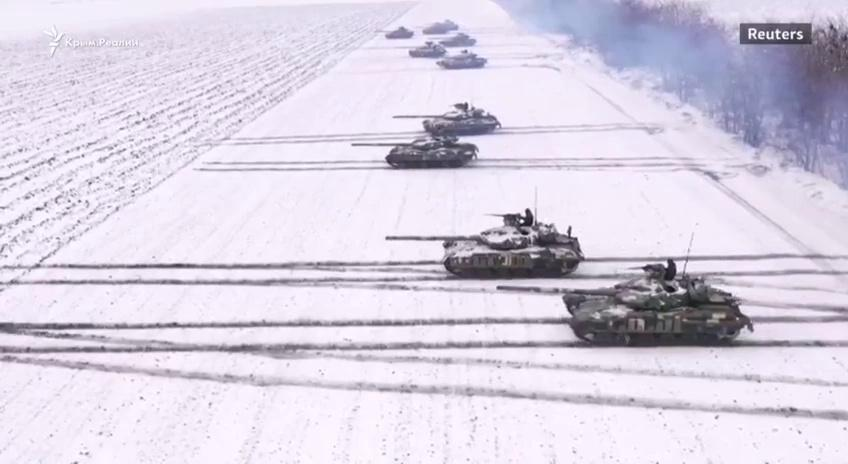tank: (497, 257, 754, 347), (385, 207, 586, 279), (352, 135, 478, 170), (392, 102, 502, 134), (436, 50, 488, 70), (397, 41, 447, 58), (428, 32, 476, 46), (374, 26, 414, 38)
